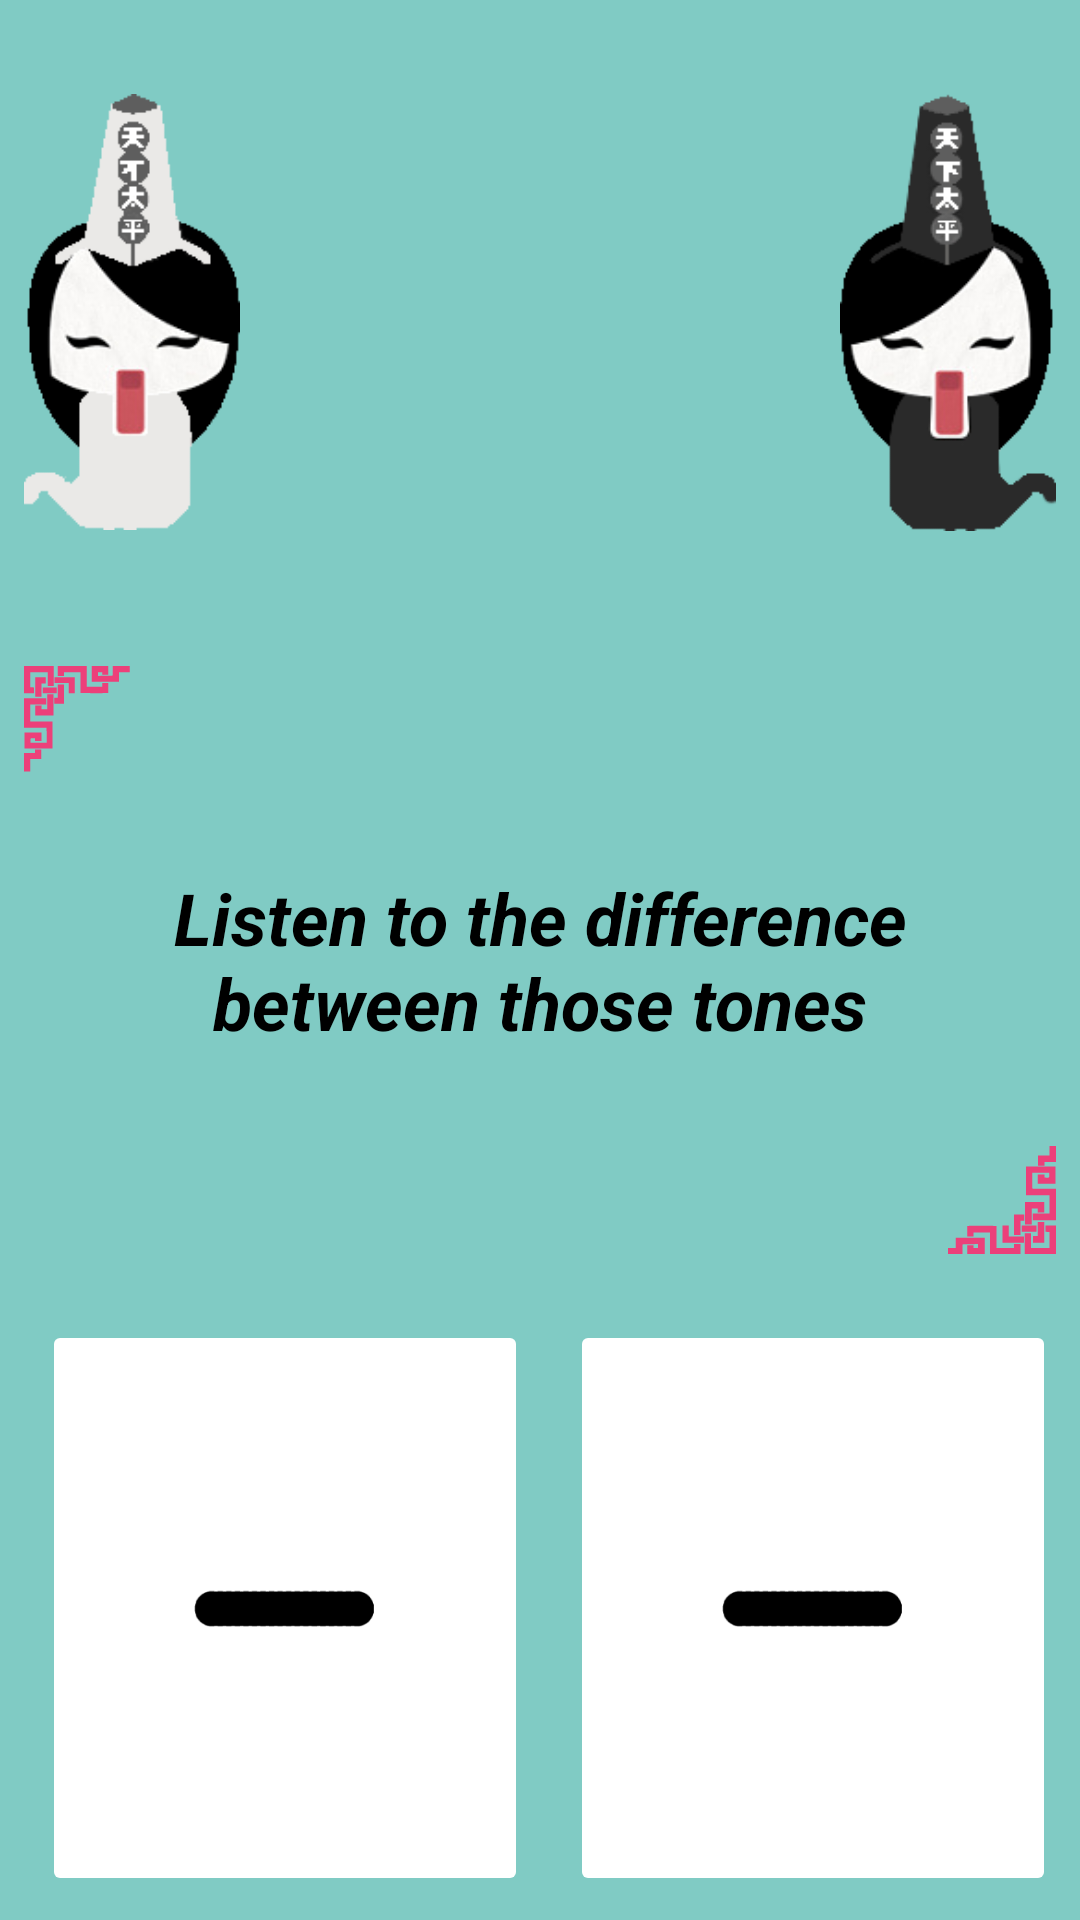

Screen size 1080*1920. Icon name, then its box in pixels as {"left": x1, "top": y1, "right": x2, "bottom": y2}:
corner bottom right: {"left": 948, "top": 1146, "right": 1056, "bottom": 1254}
corner top left: {"left": 24, "top": 666, "right": 130, "bottom": 772}
